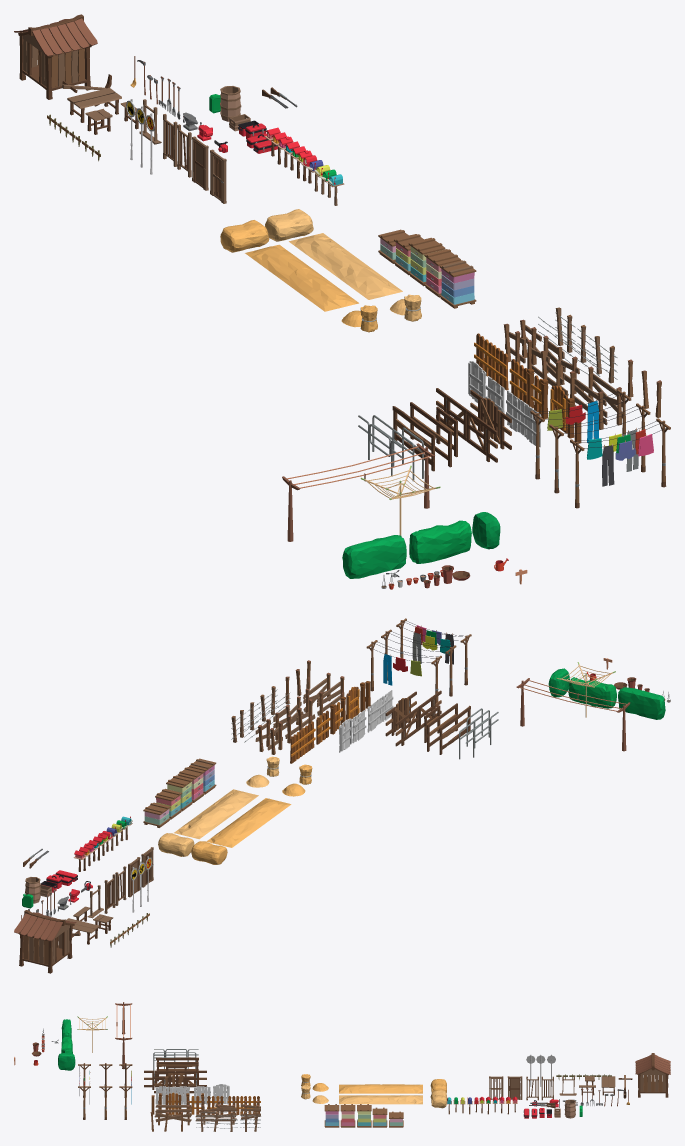
File: Mics2.fbx
3 views of the same model, one above another, from view 1: azimuth 30°, elevation 25°; view 2: azimuth 150°, elevation 25°; view 3: azimuth 270°, elevation 25° (orthographic). The views are drawn at different scales.
Visible parts, largest first — view 1: ChickenCoop, Fence3, DryGrassHeap1, DryGrassHeap, ClothRack3, hedge2, hedge1, ClothRack2, BeeHive1, ClothDryingStand1, Fence1, DryGrassHeap6 (+9 smaller); view 2: Fence3, ChickenCoop, DryGrassHeap1, DryGrassHeap, ClothRack3, hedge2, ClothRack2, hedge1, ClothDryingStand1, Fence1, Brown_fence_Fence, DryGrassHeap6 (+5 smaller); view 3: Fence3, ChickenCoop, DryGrassHeap1, DryGrassHeap, White_Fence, Fence1, Brown_fence_Fence, BeeHive2, BeeHive1, ClothDryingStand1, Door, BeeHive6 (+17 smaller).
Part boxes in pixels (bbox=[...]): ChickenCoop: bbox=[14, 14, 97, 99]; Fence3: bbox=[503, 319, 661, 429]; DryGrassHeap1: bbox=[245, 244, 358, 311]; DryGrassHeap: bbox=[289, 233, 402, 299]; ClothRack3: bbox=[570, 418, 670, 508]; hedge2: bbox=[342, 535, 406, 578]; hedge1: bbox=[409, 520, 471, 563]; ClothRack2: bbox=[530, 389, 631, 479]; BeeHive1: bbox=[439, 260, 476, 308]; ClothDryingStand1: bbox=[282, 443, 434, 541]; Fence1: bbox=[555, 307, 617, 383]; DryGrassHeap6: bbox=[220, 220, 269, 252]; Fence3: bbox=[255, 660, 344, 754]; ChickenCoop: bbox=[14, 910, 76, 973]; DryGrassHeap1: bbox=[206, 798, 291, 847]; DryGrassHeap: bbox=[174, 789, 258, 839]; ClothRack3: bbox=[396, 618, 471, 685]; hedge2: bbox=[618, 687, 665, 719]; ClothRack2: bbox=[366, 640, 441, 706]; hedge1: bbox=[568, 677, 616, 708]; ClothDryingStand1: bbox=[516, 678, 630, 751]; Fence1: bbox=[231, 686, 277, 742]; Brown_fence_Fence: bbox=[290, 721, 315, 763]; DryGrassHeap6: bbox=[191, 841, 227, 864]; Fence3: bbox=[150, 1100, 260, 1131]; ChickenCoop: bbox=[635, 1053, 670, 1097]; DryGrassHeap1: bbox=[339, 1084, 422, 1093]; DryGrassHeap: bbox=[339, 1095, 422, 1104]; White_Fence: bbox=[155, 1086, 189, 1104]; Fence1: bbox=[196, 1112, 260, 1131]; Brown_fence_Fence: bbox=[227, 1096, 260, 1114]; BeeHive2: bbox=[340, 1104, 355, 1127]; BeeHive1: bbox=[324, 1104, 339, 1127]; ClothDryingStand1: bbox=[115, 1002, 132, 1069]; Door: bbox=[507, 1076, 522, 1099]; BeeHive6: bbox=[357, 1104, 371, 1127].
Size of the model in its own units: 0.1153 by 0.0231 by 0.3128.
Materials: 2 (2 with a texture image).
